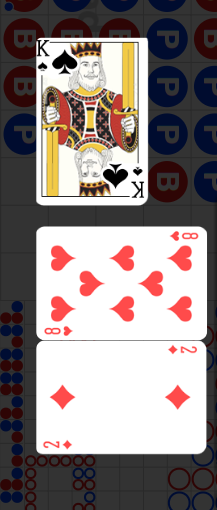2D: (42, 438, 74, 451)
8H: (44, 324, 75, 336)
